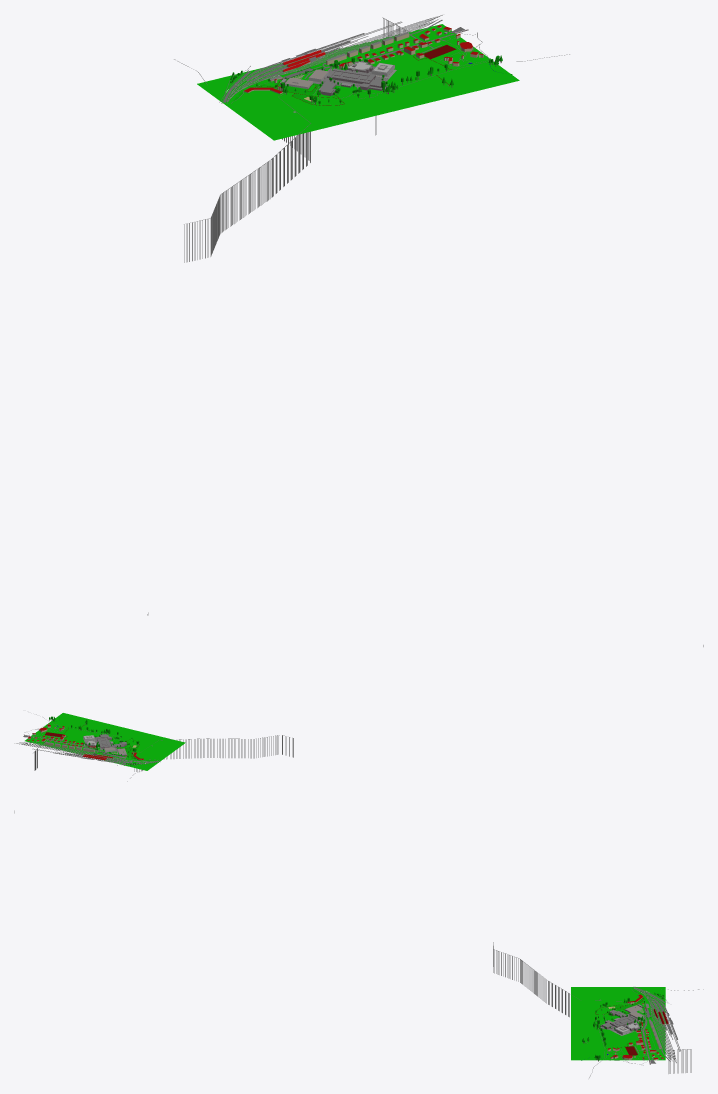
Rendered from proto.fbx.
The picture shows the model from 3 angles, top to bottom: view 1: azimuth 30°, elevation 25°; view 2: azimuth 150°, elevation 25°; view 3: azimuth 270°, elevation 25°; orthographic projection. The views are drawn at different scales.
Parts seen in each view (by area): view 1: SurfaceArea932, SurfaceArea934, Bridge Holzsteg, SurfaceArea936, SurfaceArea933; view 2: SurfaceArea932, Bridge Holzsteg, SurfaceArea934, SurfaceArea936, SurfaceArea933, SurfaceArea935; view 3: SurfaceArea932, SurfaceArea934, Bridge Holzsteg, SurfaceArea936.
Boxes of the visible parts, left/top/right/bottom form: SurfaceArea932: left=210, top=66, right=385, bottom=140; SurfaceArea934: left=322, top=39, right=496, bottom=113; Bridge Holzsteg: left=184, top=131, right=310, bottom=262; SurfaceArea936: left=433, top=34, right=519, bottom=85; SurfaceArea933: left=197, top=59, right=320, bottom=93; SurfaceArea932: left=98, top=729, right=185, bottom=766; Bridge Holzsteg: left=134, top=735, right=293, bottom=771; SurfaceArea934: left=42, top=715, right=129, bottom=752; SurfaceArea936: left=31, top=713, right=73, bottom=738; SurfaceArea933: left=94, top=753, right=153, bottom=770; SurfaceArea935: left=36, top=739, right=97, bottom=754; SurfaceArea932: left=571, top=987, right=649, bottom=1020; SurfaceArea934: left=571, top=1020, right=649, bottom=1053; Bridge Holzsteg: left=493, top=942, right=569, bottom=1017; SurfaceArea936: left=571, top=1053, right=649, bottom=1060.
Size of the model in its own units: 239280 by 12498 by 262081.
